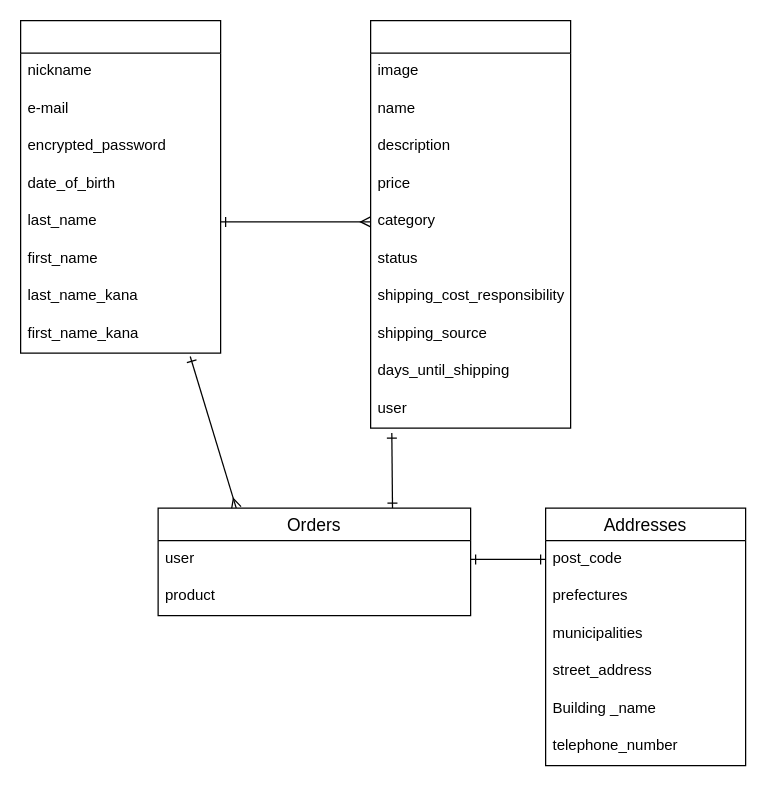
This 766x786 diagram has some shape labels left out. Each missing label, with the box of its shape:
Products: (369, 19, 571, 428)
Users: (19, 19, 221, 353)
